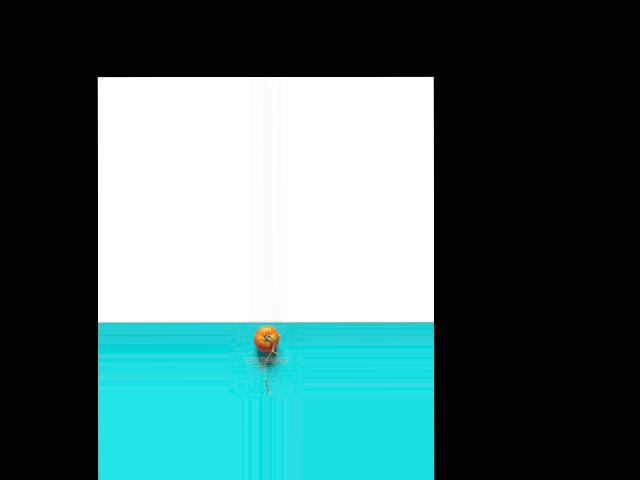tomato: (253, 325, 280, 351)
